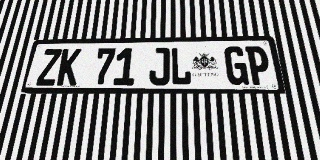1: (113, 48, 136, 85)
7: (92, 48, 116, 85)
G: (224, 46, 249, 85)
J: (149, 47, 170, 85)
K: (56, 49, 82, 86)
L: (171, 47, 192, 85)
P: (245, 46, 272, 85)
Z: (36, 49, 62, 86)
